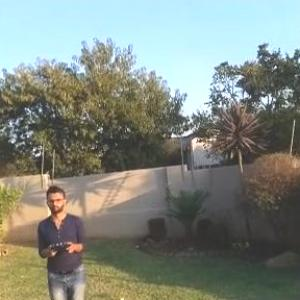follow: (25, 177, 84, 299)
